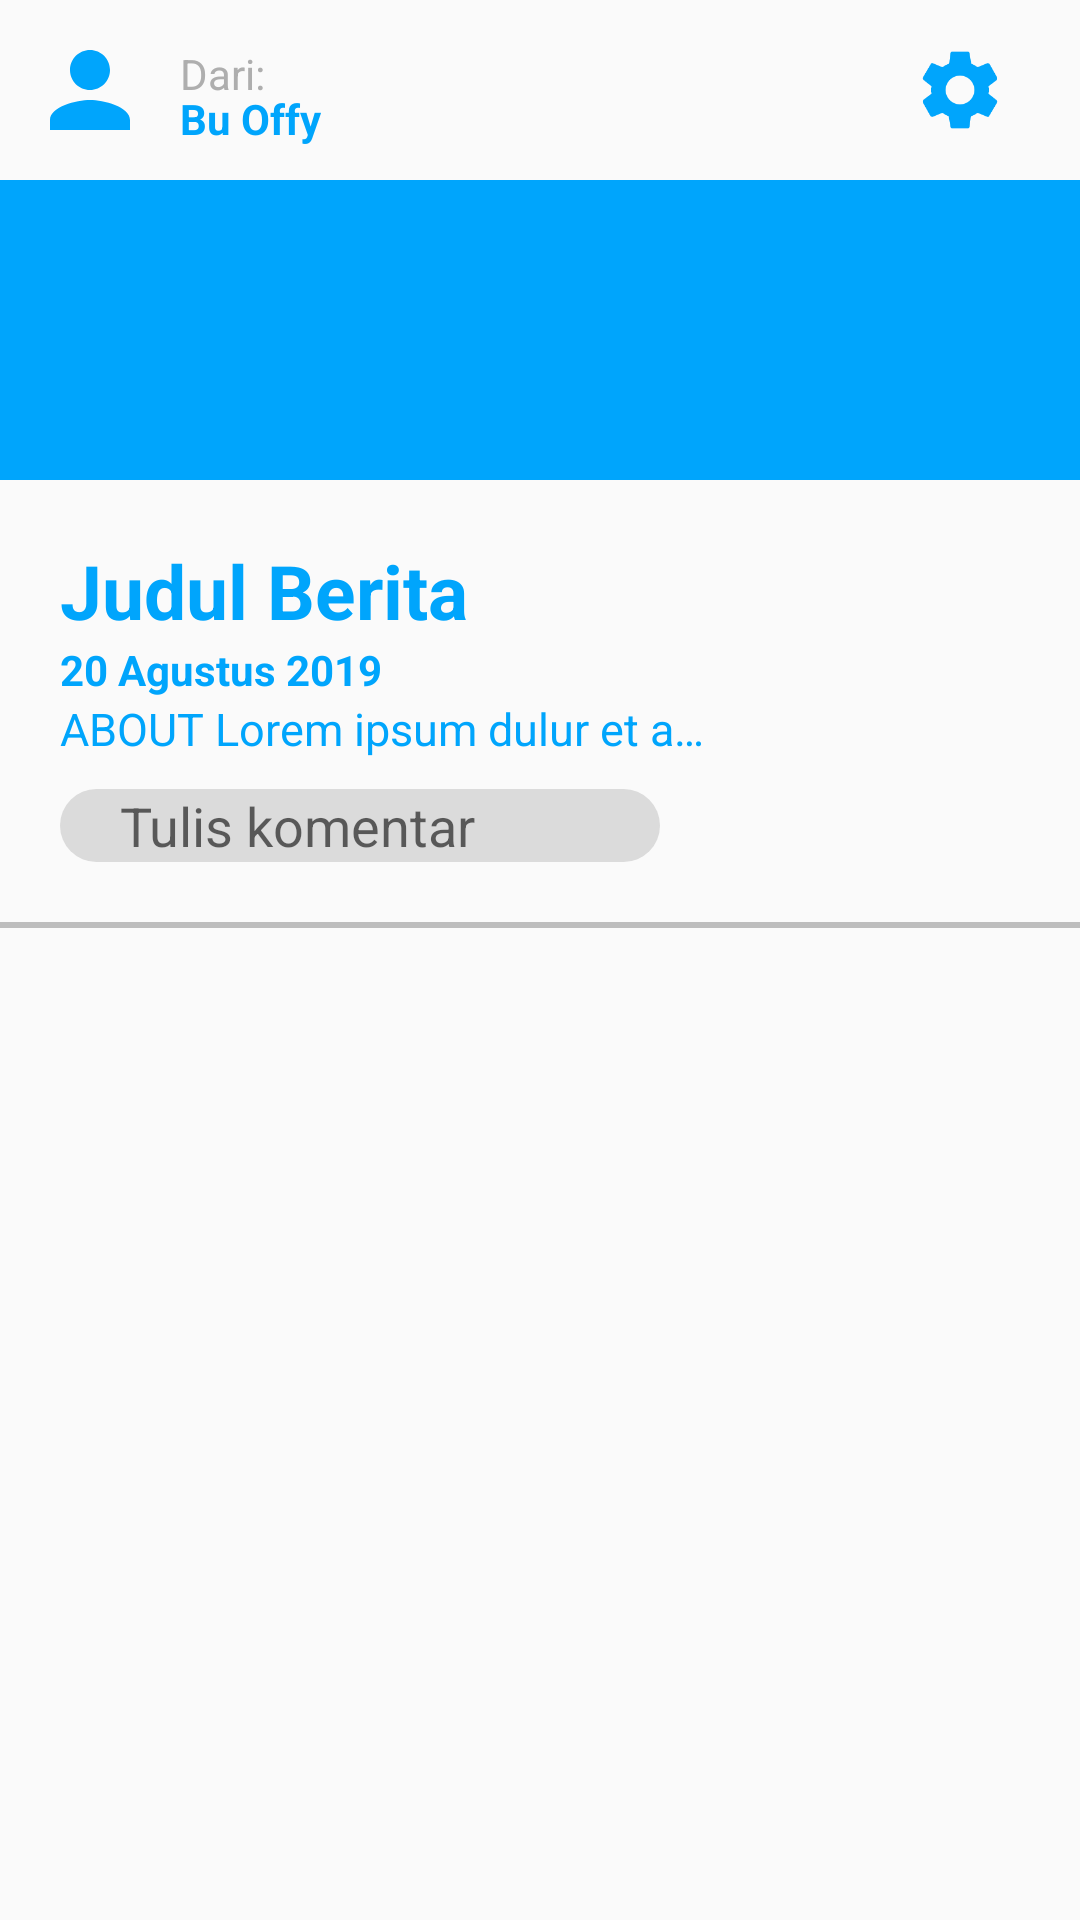

Screen size 1080 × 1920. Icon name, then its center in pixels as (x=x, y=y):
person: (x=90, y=90)
